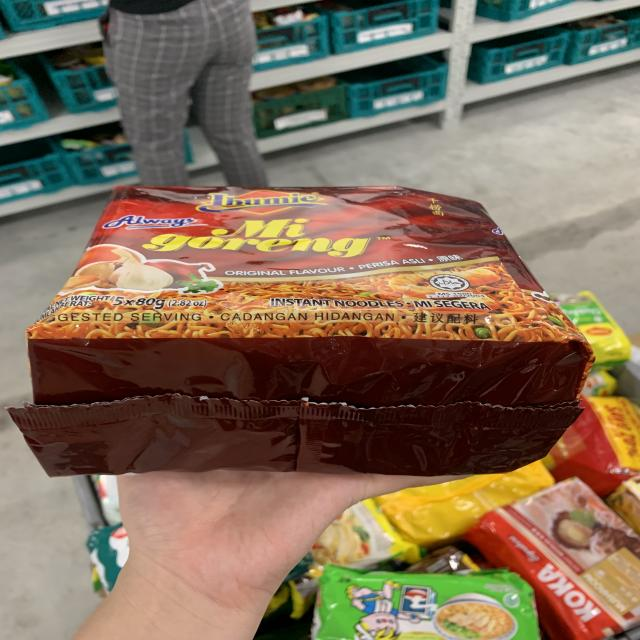object_name: (28, 188, 562, 455)
